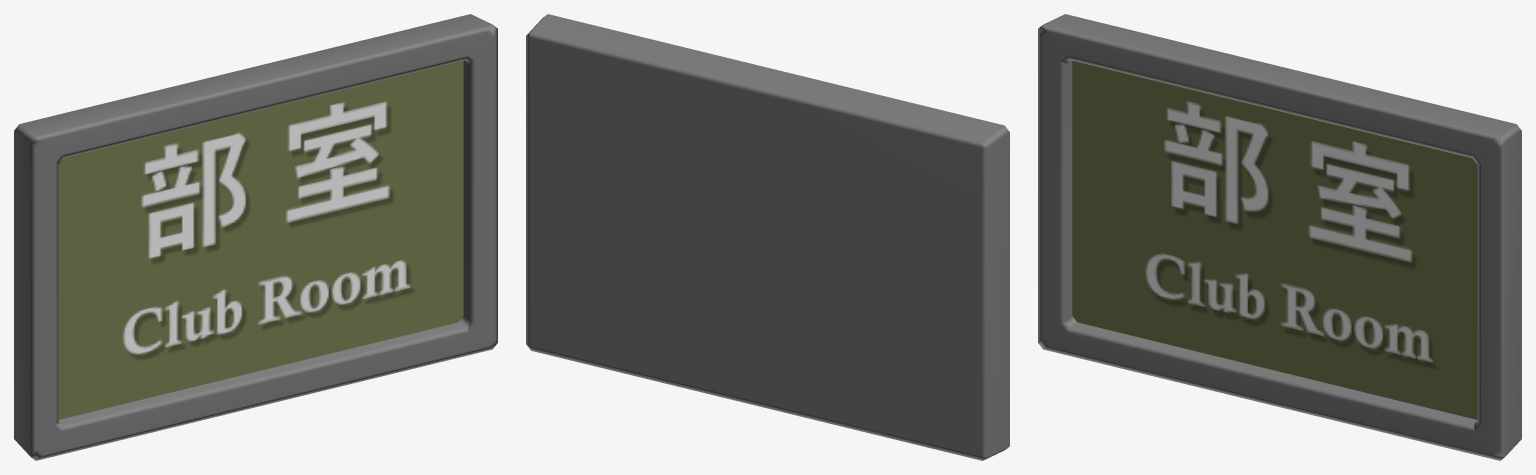
File: SM_sign_clubroom.fbx
3 renders of one model, left to right at view 1: azimuth 30°, elevation 25°; view 2: azimuth 150°, elevation 25°; view 3: azimuth 330°, elevation 25°, orthographic.
Visible parts, largest first — view 1: sign_roomname08; view 2: sign_roomname08; view 3: sign_roomname08.
Part boxes in pixels (x1,y1,x2,y2): sign_roomname08: [14, 14, 497, 460]; sign_roomname08: [526, 14, 1009, 460]; sign_roomname08: [1038, 14, 1521, 460].
Bounding box in the file's own units: 21.13 × 14.04 × 1.67.
Materials: 2 (1 with a texture image).
